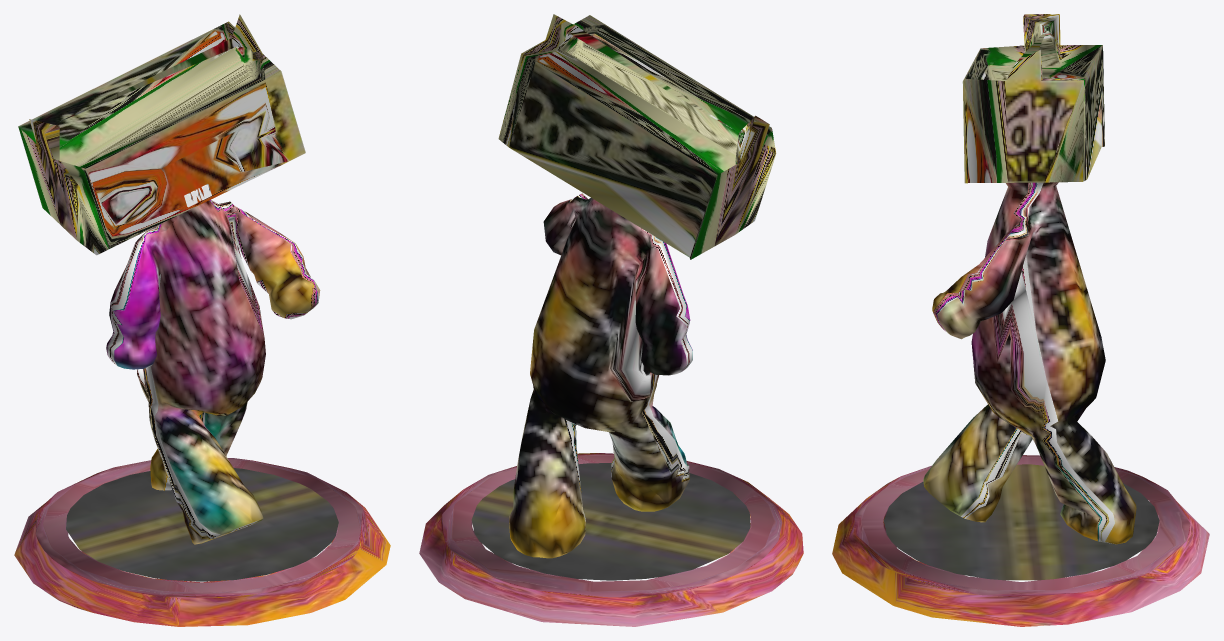
The picture shows the model from 3 angles, left to right: view 1: azimuth 30°, elevation 25°; view 2: azimuth 150°, elevation 25°; view 3: azimuth 270°, elevation 25°; orthographic projection. The views are drawn at different scales.
Bounding box in the file's own units: 1.45 × 2.19 × 1.44.
5 materials, 4 textured.
